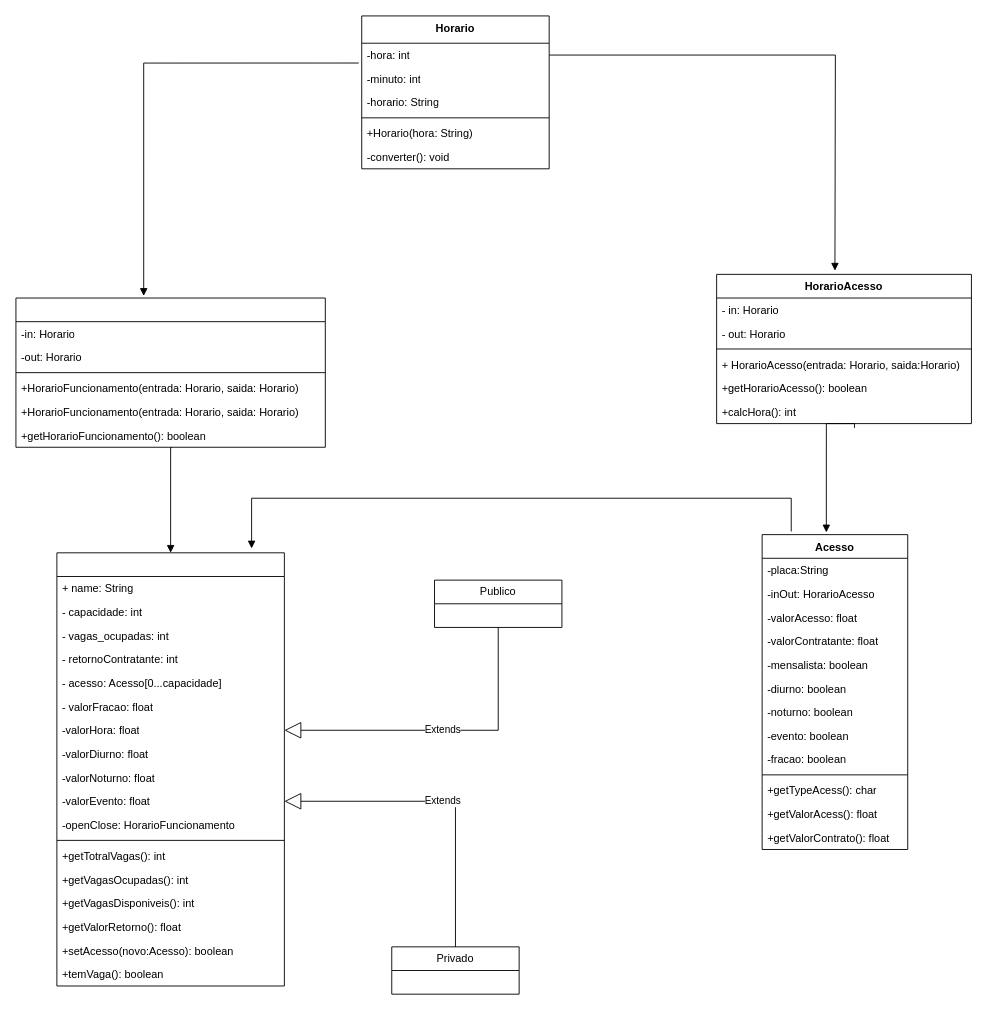
Some shapes in this 987 by 1010 pixel diagram are drawn without their labels. The shapes that lost their labels are listed below. From the top down, each one's box as (x1, y1, x2, y2) in pixels, then its label:
(15, 297, 325, 447): HoraioFuncionamento
(56, 552, 284, 986): Estacinamento
